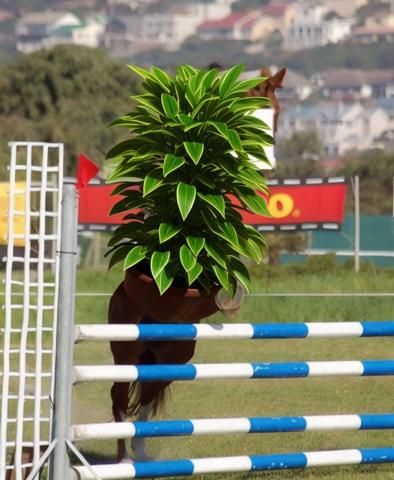horse: (109, 64, 288, 464)
pottedplant: (106, 64, 270, 297)
